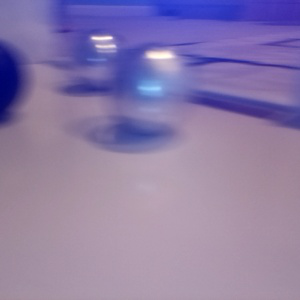alive_ball: (111, 41, 191, 136), (72, 28, 129, 88)
dead_ball: (1, 40, 26, 113)
